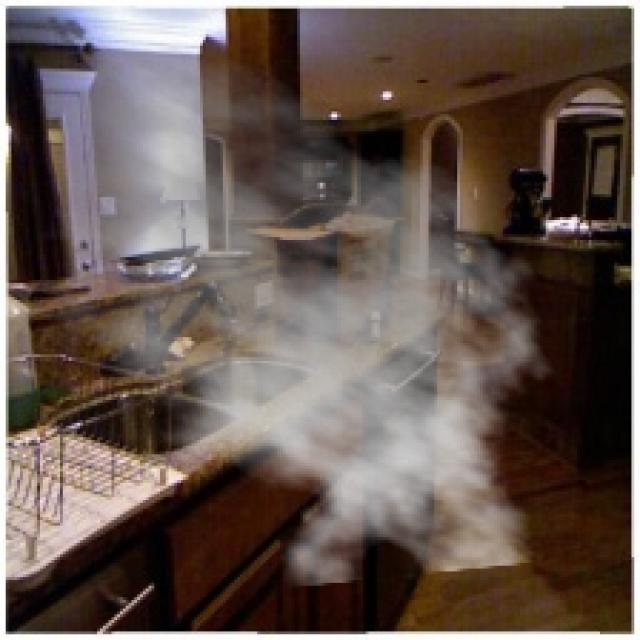smoke: (6, 43, 571, 588)
